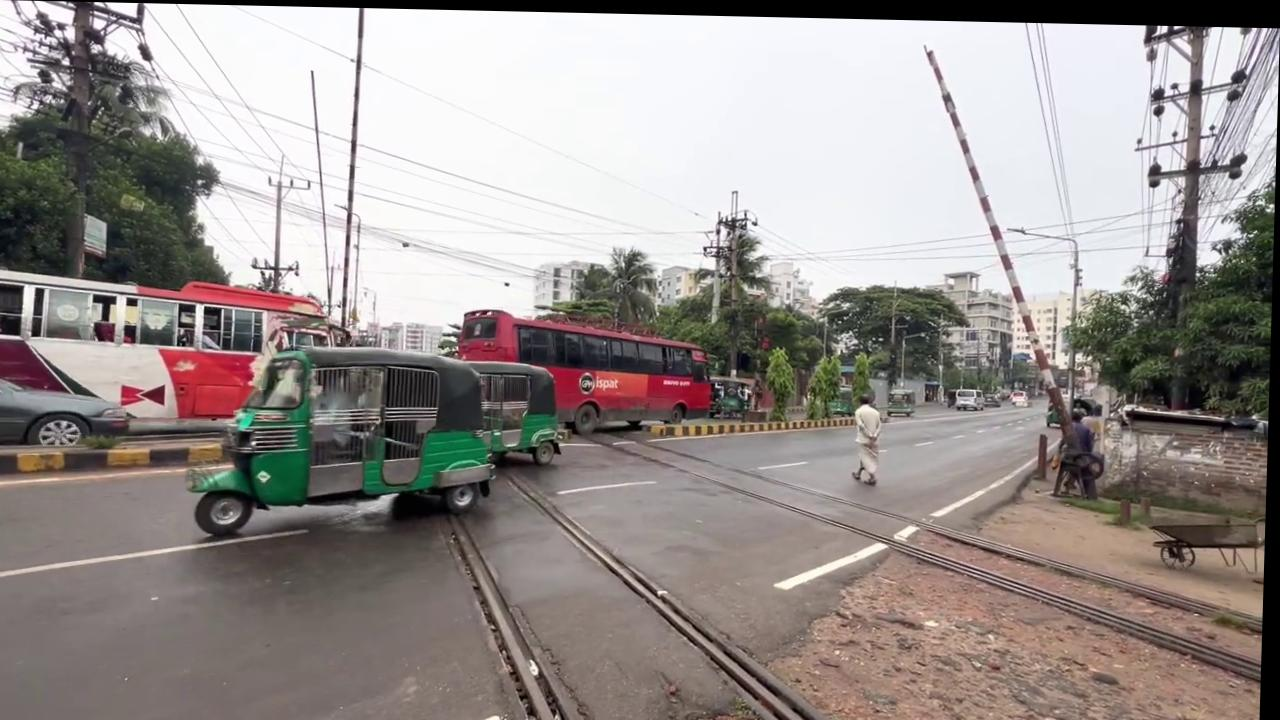Bollard: (0, 373, 133, 447)
Car: (648, 405, 861, 438)
Downstairs: (1150, 510, 1267, 569)
Fence: (853, 389, 884, 481)
Garbage: (912, 39, 1105, 491), (1168, 21, 1210, 405), (339, 6, 366, 329)
Motorcycle: (581, 424, 1268, 676), (438, 460, 863, 720)
Railroad-crossing: (807, 348, 844, 415), (765, 341, 797, 417), (852, 347, 877, 404)
Rickshaw: (186, 339, 503, 539), (464, 357, 568, 464)
